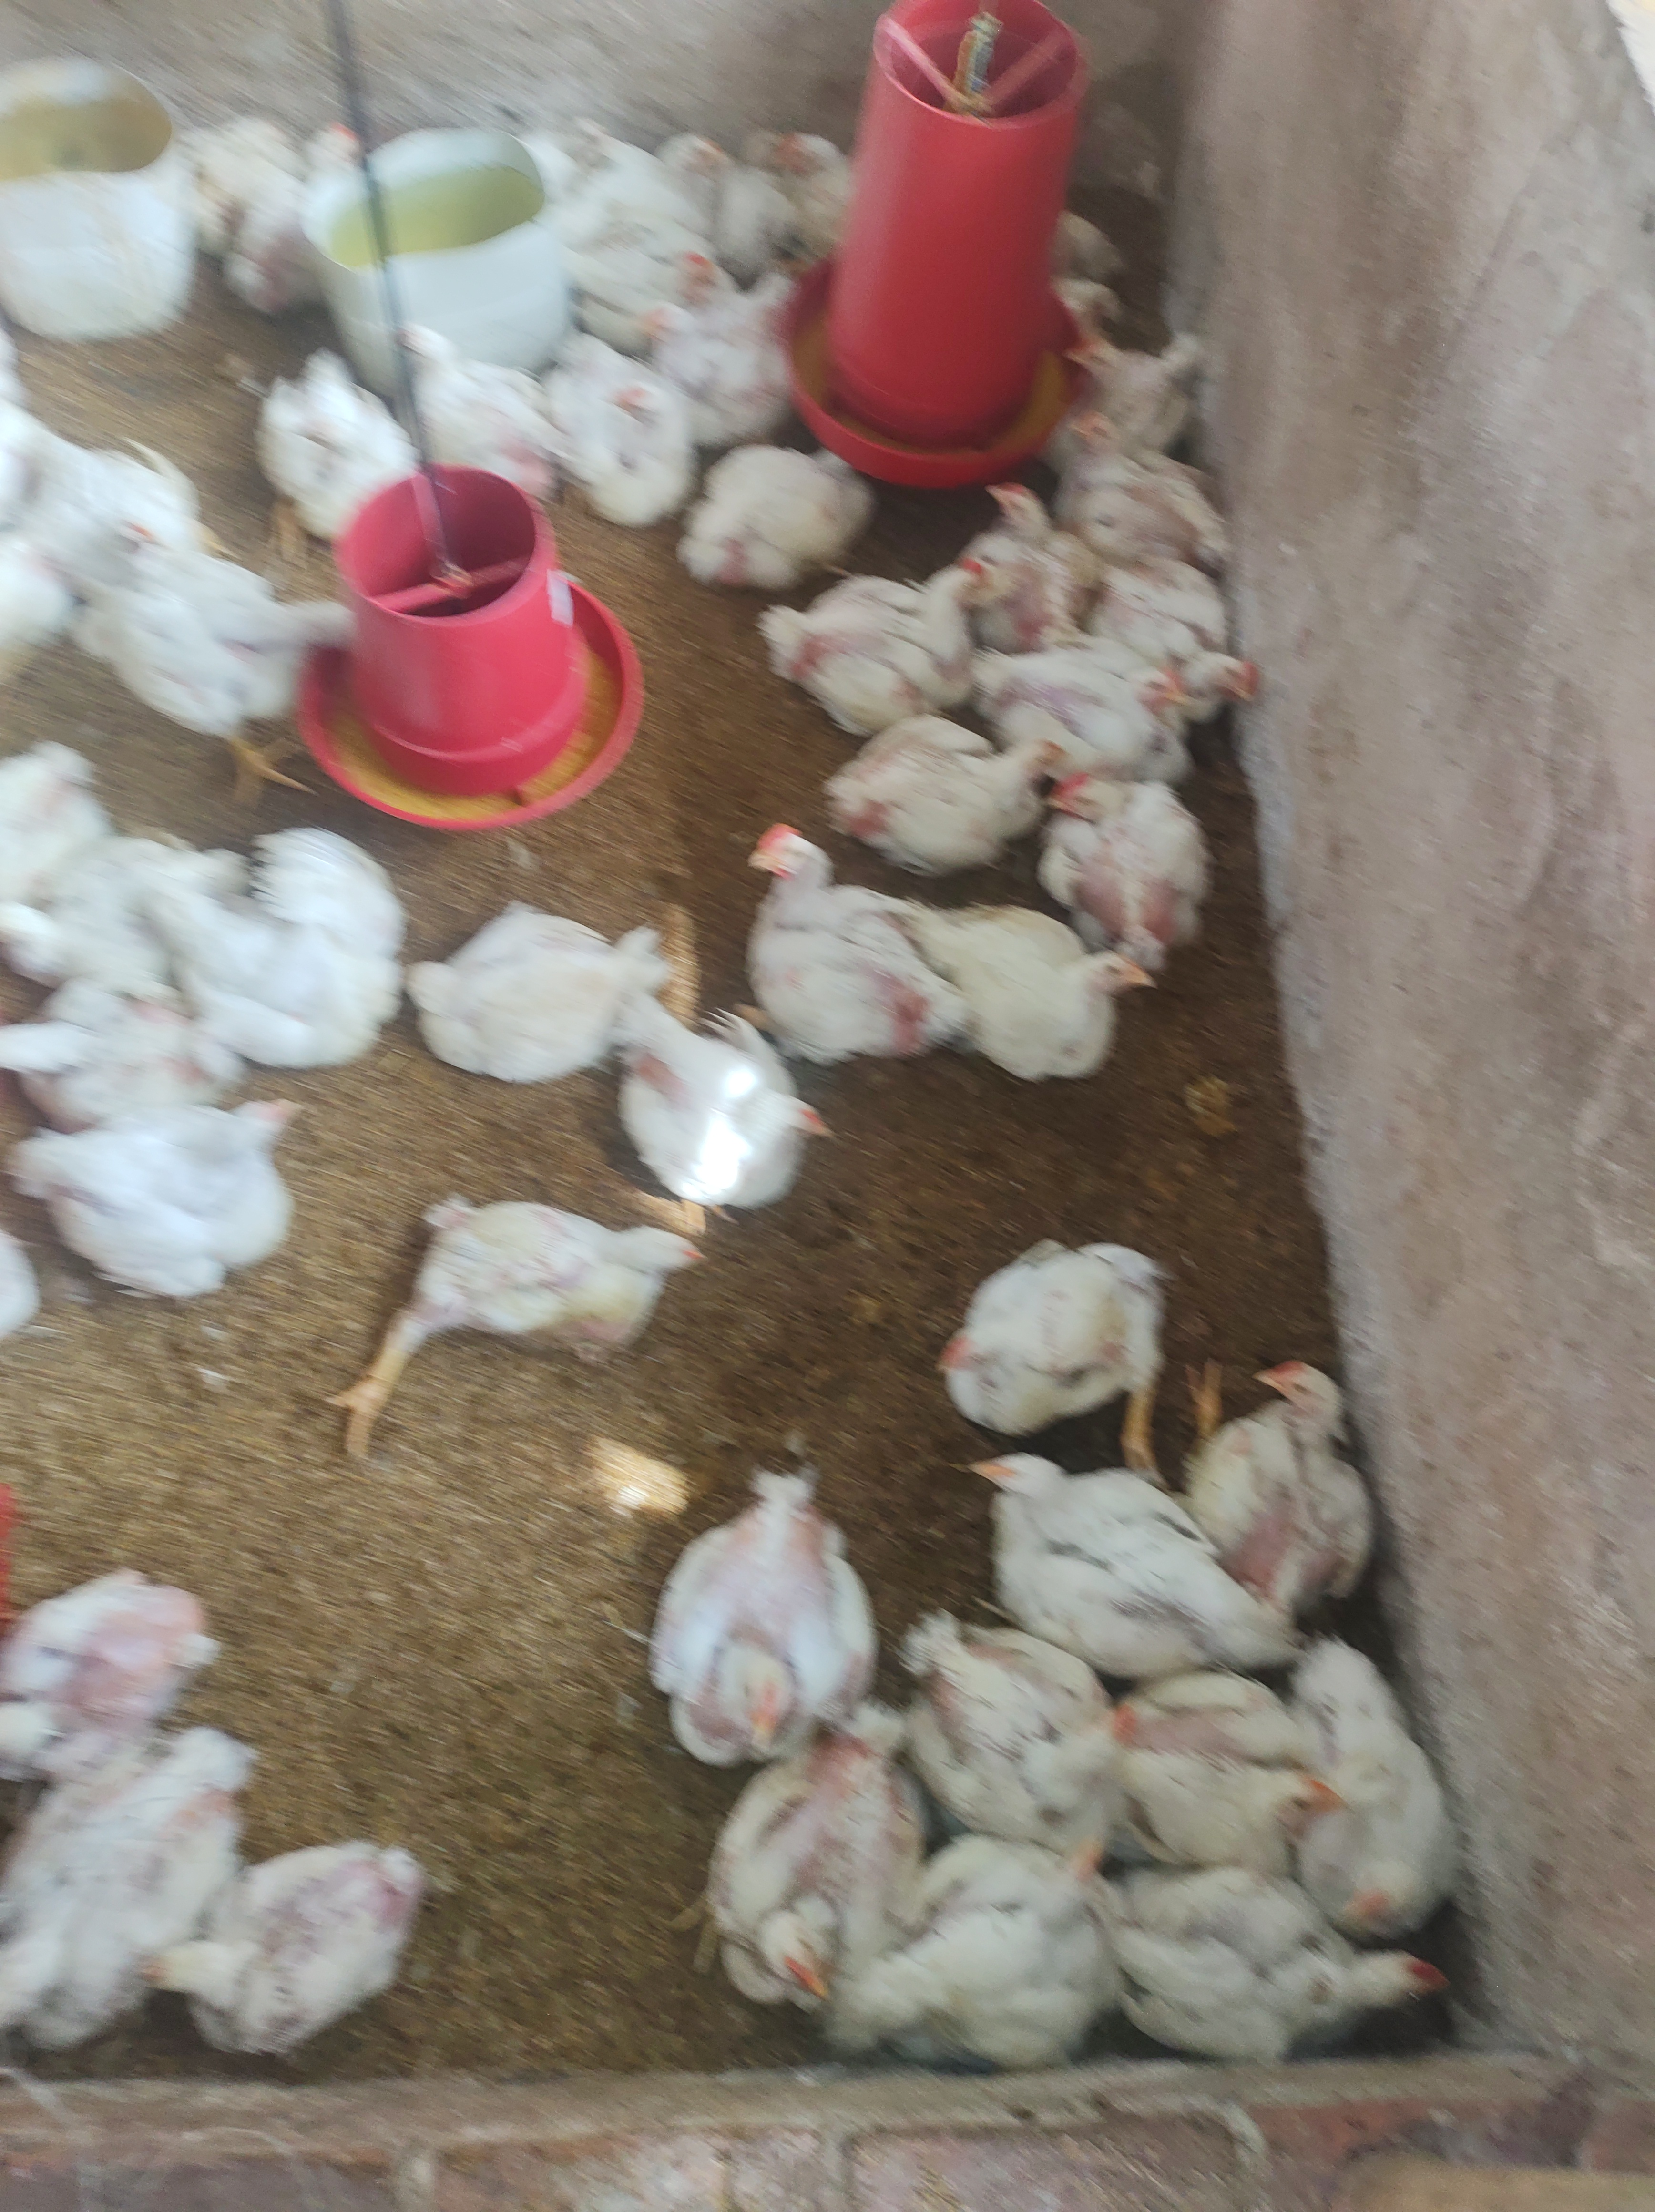Pollos: (1109, 1857, 1443, 2134), (0, 1713, 269, 2014), (847, 1805, 1114, 2095), (654, 1445, 906, 1737), (202, 1824, 502, 2066), (372, 1198, 681, 1426), (3, 1076, 308, 1301), (381, 878, 678, 1106), (153, 810, 421, 1063), (115, 496, 323, 807), (706, 805, 939, 1076), (963, 1469, 1226, 1689), (1210, 1339, 1415, 1610), (901, 1616, 1137, 1838), (939, 1242, 1191, 1450), (826, 647, 1057, 866), (697, 1732, 901, 1979), (624, 1003, 833, 1233), (1114, 1654, 1323, 1868), (1307, 1629, 1467, 1906), (0, 1553, 221, 1737), (944, 916, 1182, 1087), (676, 424, 901, 603), (770, 536, 989, 713), (381, 306, 542, 522), (1034, 400, 1238, 553), (247, 363, 431, 529), (0, 417, 186, 579), (228, 118, 377, 310), (549, 344, 695, 529), (1036, 762, 1215, 911), (1062, 322, 1213, 426), (1085, 630, 1201, 755), (770, 115, 873, 231), (958, 463, 1066, 567), (633, 243, 730, 316), (1193, 640, 1273, 722), (522, 99, 607, 174), (643, 110, 720, 183)
